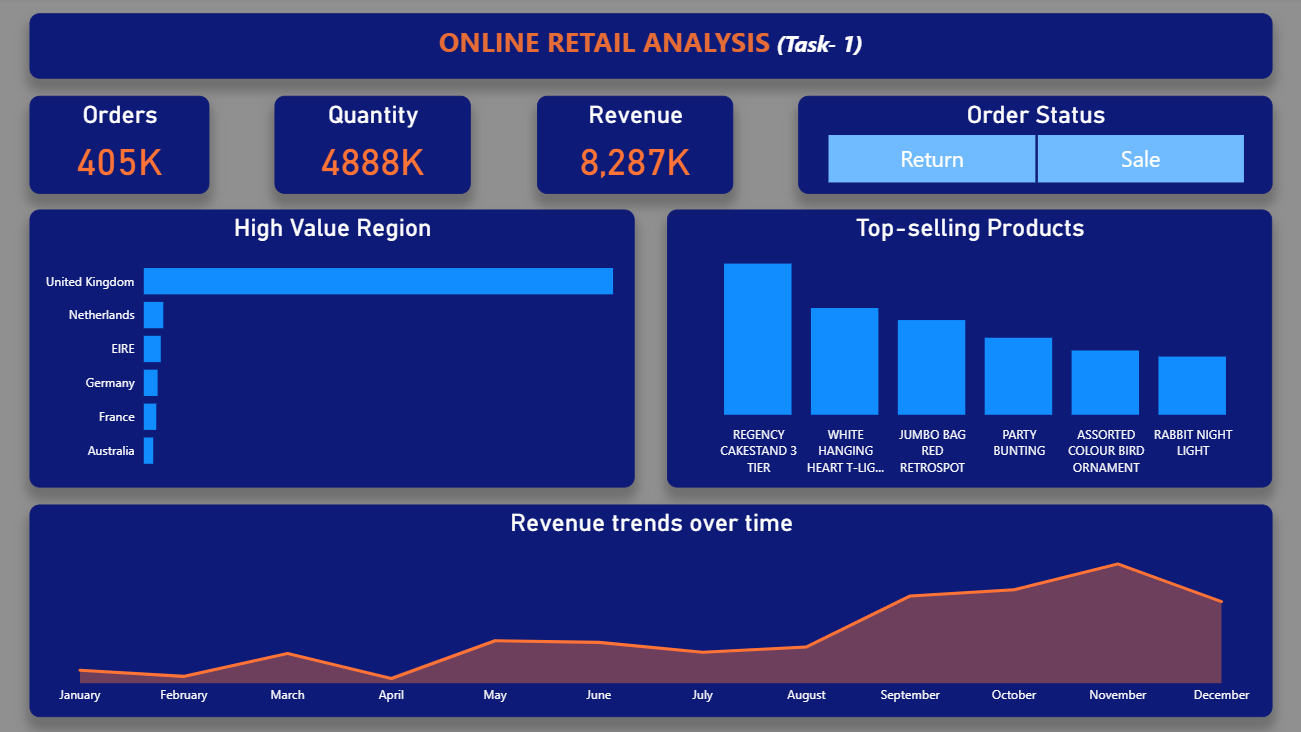

What the dashboard file says about the page in this screenshot:
{"tool":"powerbi","page":{"name":"Page 1","canvas":[1280,720],"ordinal":0},"visuals":[{"type":"card","title":"Orders","fields":{"Values":["CountNonNull(Table1.InvoiceNo)"]},"box":[32,96,176,96],"z":0},{"type":"card","title":"Quantity","fields":{"Values":["Sum(Table1.Quantity)"]},"box":[272,96,192,96],"z":1000},{"type":"clusteredColumnChart","title":"Top-selling Products","fields":{"Category":["Table1.Description"],"Y":["Sum(Table1.Total Cost)"]},"box":[656,208,592,272],"z":2000},{"type":"clusteredBarChart","title":"High Value Region","fields":{"Category":["Table1.Country"],"Y":["Sum(Table1.Total Cost)"]},"box":[32,208,592,272],"z":3000},{"type":"card","title":"Revenue","fields":{"Values":["Sum(Table1.Total Cost)"]},"box":[528,96,192,96],"z":4000},{"type":"areaChart","title":"Revenue trends over time","fields":{"Y":["Sum(Table1.Total Cost)"],"Category":["Table1.InvoiceDate.Variation.Date Hierarchy.Month"]},"box":[32,496,1216,208],"z":5000},{"type":"slicer","title":"Order Status","fields":{"Values":["Table1.Order Status"]},"box":[784,96,464,96],"z":6000},{"type":"textbox","box":[32,16,1216,64],"z":7500}]}

Visuals, with their boxes in screenshot pixels (x1, y1, x2, y2), scaled from the page's 1280x720 canvas onto the 1301x732 screenshot:
"Orders" card: bbox(33, 98, 211, 195)
"Quantity" card: bbox(276, 98, 472, 195)
"Top-selling Products" clusteredColumnChart: bbox(667, 211, 1268, 488)
"High Value Region" clusteredBarChart: bbox(33, 211, 634, 488)
"Revenue" card: bbox(537, 98, 732, 195)
"Revenue trends over time" areaChart: bbox(33, 504, 1268, 716)
"Order Status" slicer: bbox(797, 98, 1268, 195)
textbox: bbox(33, 16, 1268, 81)
